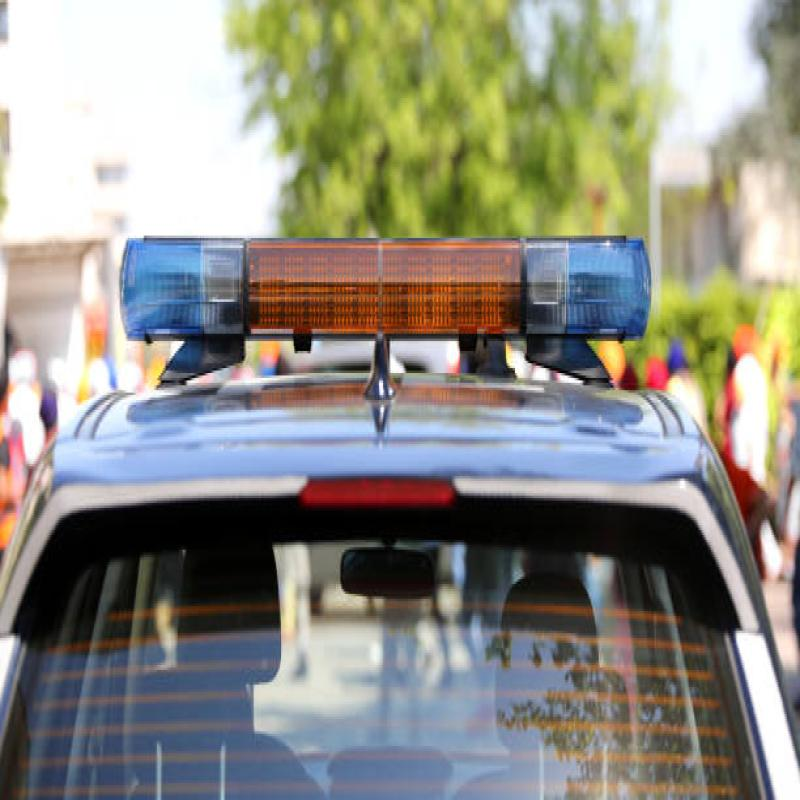AmbulanceSiren: (115, 168, 671, 416)
